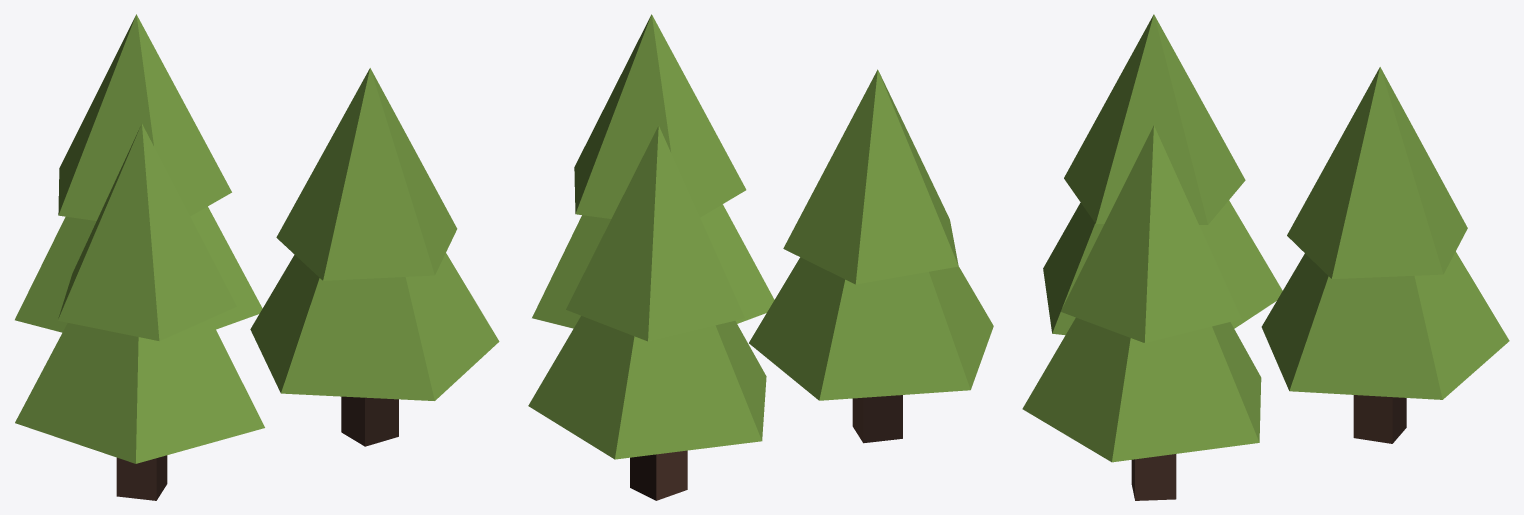
File: TB_Env_TreeDB_C_Med.FBX
3 views of the same model, side by side, from view 1: azimuth 30°, elevation 25°; view 2: azimuth 150°, elevation 25°; view 3: azimuth 270°, elevation 25° (orthographic).
Visible parts, largest first — view 1: TB_Env_TreeDB_C_Med; view 2: TB_Env_TreeDB_C_Med; view 3: TB_Env_TreeDB_C_Med.
Part boxes in pixels (<box>): TB_Env_TreeDB_C_Med: <box>15,14,499,500</box>; TB_Env_TreeDB_C_Med: <box>528,14,993,500</box>; TB_Env_TreeDB_C_Med: <box>1022,14,1509,500</box>.
Size of the model in its own units: 6.35 by 4.98 by 6.
